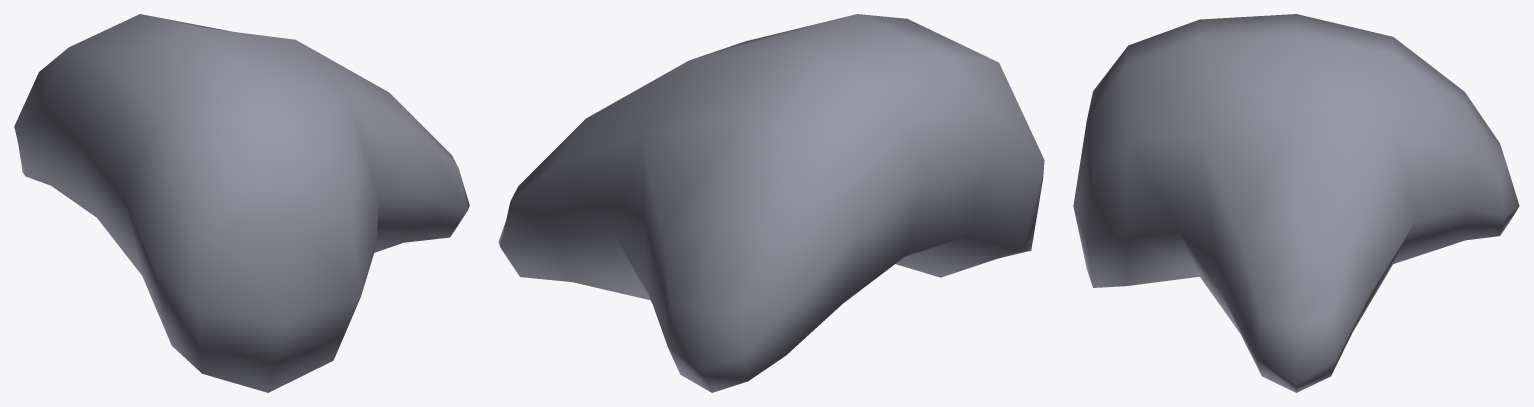
Rendered from rock1.fbx.
3 renders of one model, left to right at view 1: azimuth 30°, elevation 25°; view 2: azimuth 150°, elevation 25°; view 3: azimuth 270°, elevation 25°, orthographic. The views are drawn at different scales.
Parts seen in each view (by area): view 1: Rock.001; view 2: Rock.001; view 3: Rock.001.
Boxes of the visible parts, x1,y1,x2,y2 form: Rock.001: (14,14,469,392); Rock.001: (498,14,1044,392); Rock.001: (1073,14,1519,392).
Size of the model in its own units: 376 by 241 by 384.
